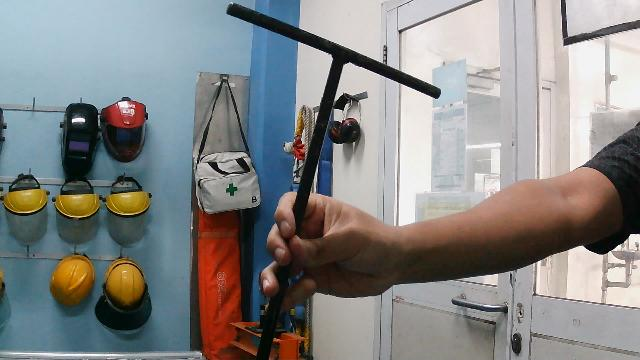kunci_t: (223, 1, 445, 360)
